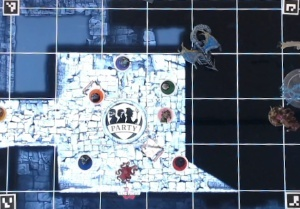green: (157, 78, 176, 95)
orange: (85, 86, 104, 104)
pink: (157, 104, 175, 122)
red: (170, 154, 189, 173)
violet: (111, 53, 133, 71), (78, 153, 94, 170)
yellow: (0, 101, 9, 124)
